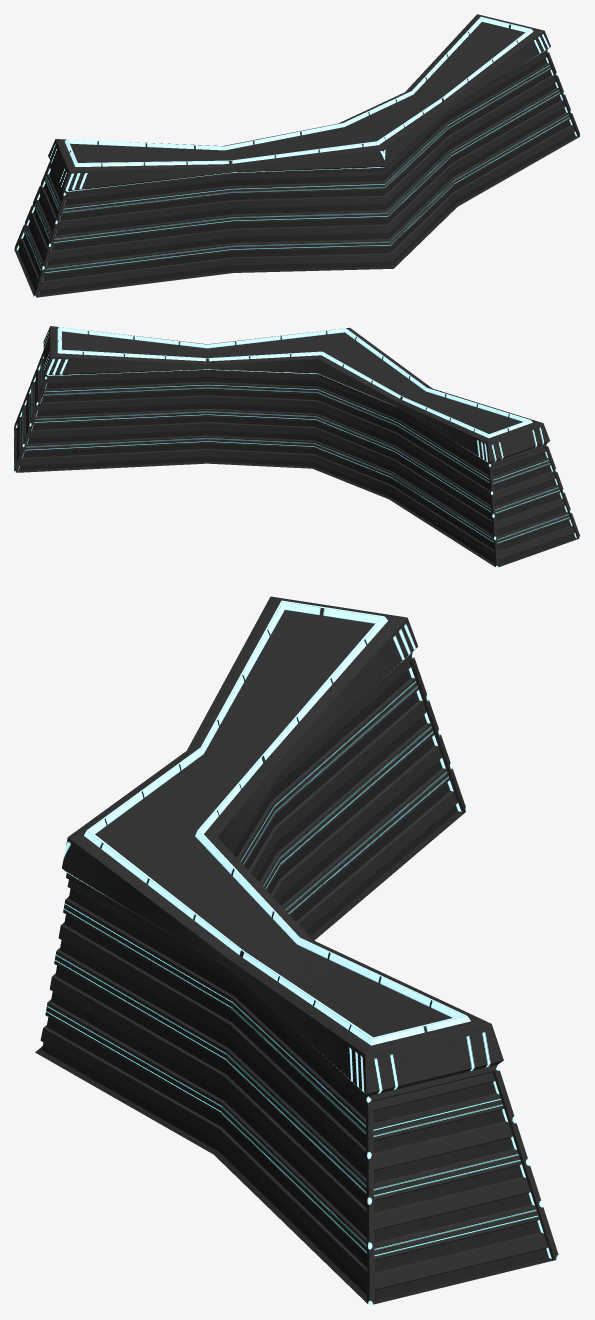
File: bldg_bOw-V_000.FBX
3 views of the same model, one above another, from view 1: azimuth 30°, elevation 25°; view 2: azimuth 150°, elevation 25°; view 3: azimuth 270°, elevation 25° (orthographic). The views are drawn at different scales.
Parts seen in each view (by area): view 1: bldg_bOw-V_00; view 2: bldg_bOw-V_00; view 3: bldg_bOw-V_00.
Boxes of the visible parts, box(x1,y1,x2,y2) form: bldg_bOw-V_00: box(14, 14, 580, 297); bldg_bOw-V_00: box(14, 326, 580, 567); bldg_bOw-V_00: box(35, 596, 559, 1305).
Bounding box in the file's own units: 270 × 53.04 × 114.
Materials: 1 (1 with a texture image).
